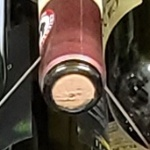bottle: (30, 45, 125, 127)
